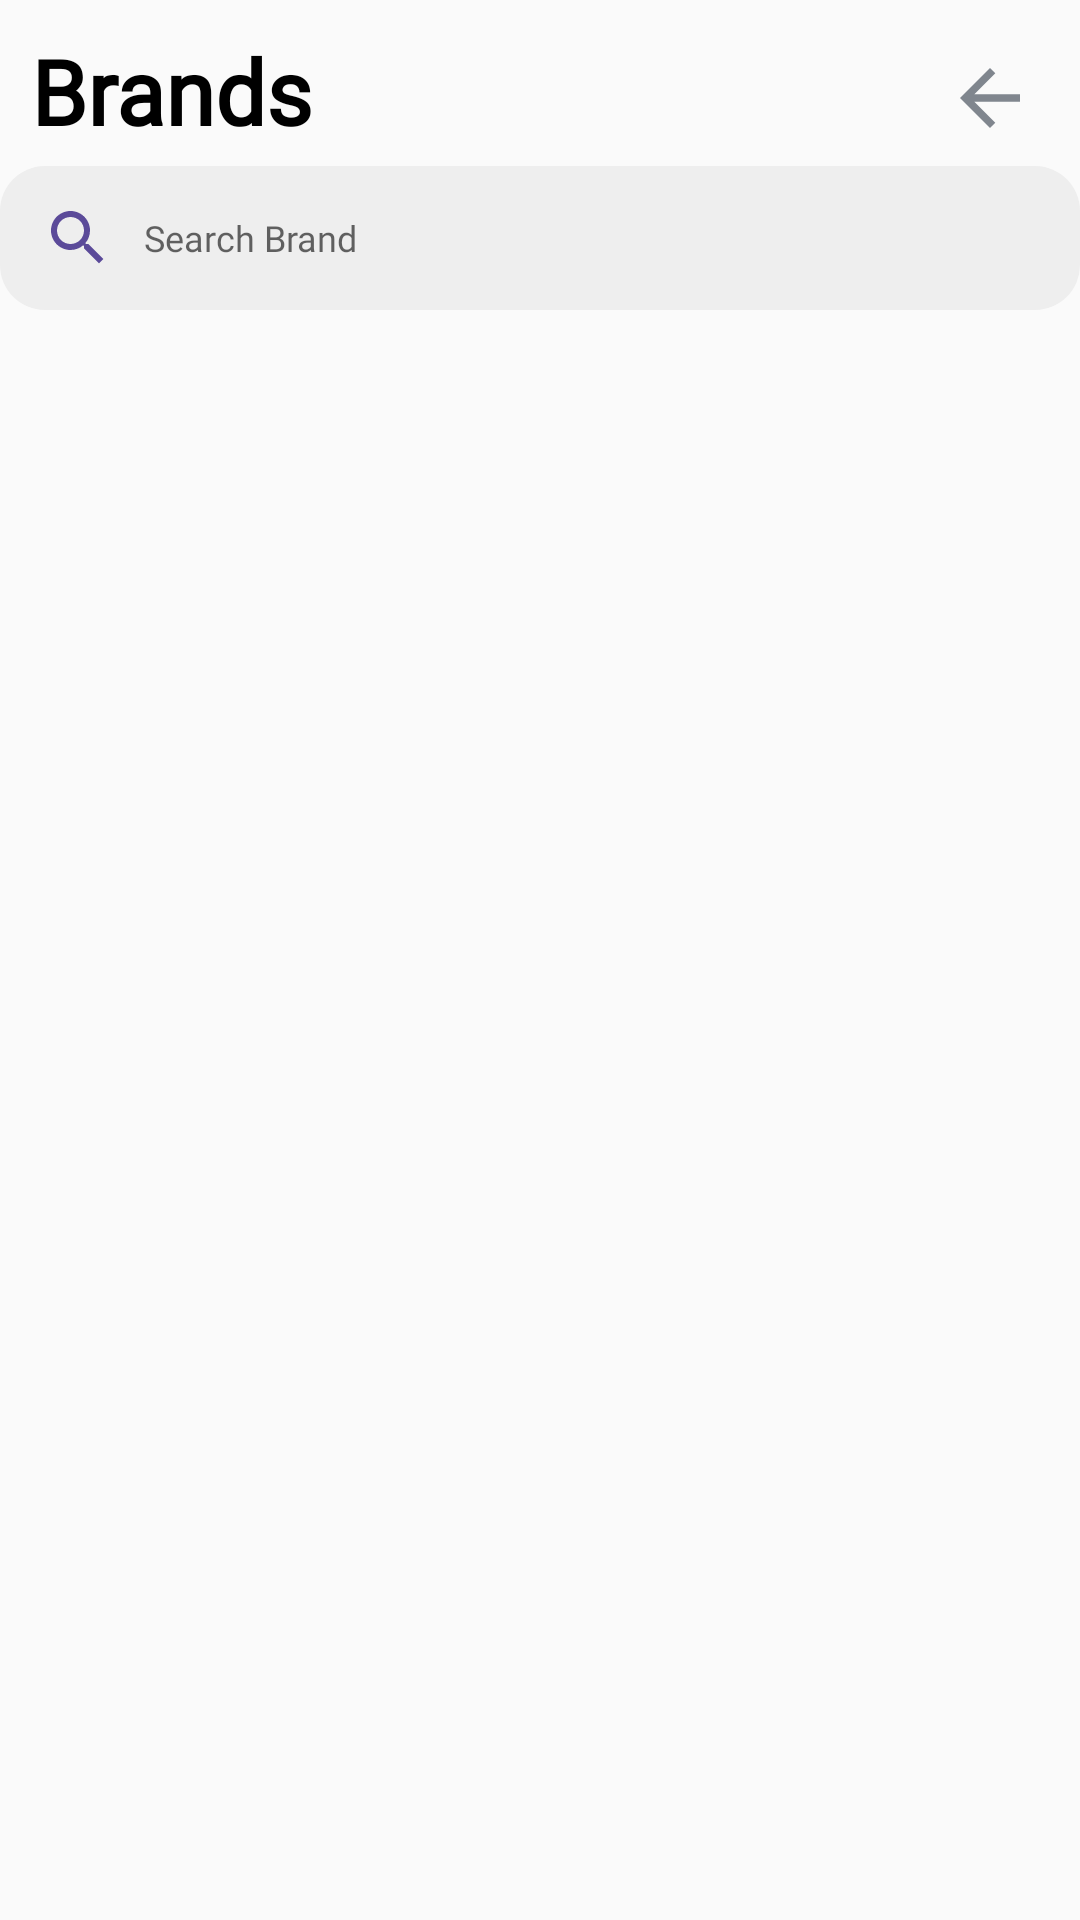

Icon click points for this 1080 × 1920 phone screenshot, format (x=x, y=y):
arrow back: (x=990, y=98)
